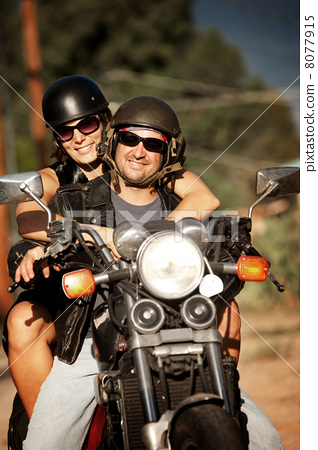helmet: (35, 75, 109, 123), (114, 90, 183, 140)
